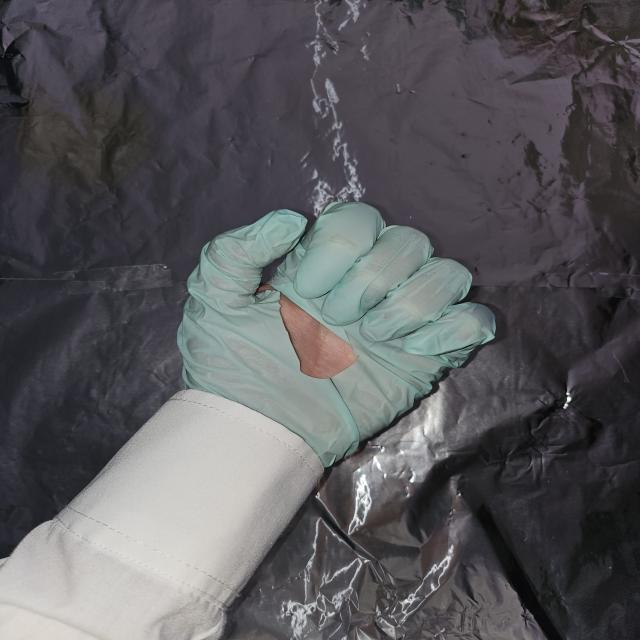gloves_damaged: (175, 196, 499, 472)
